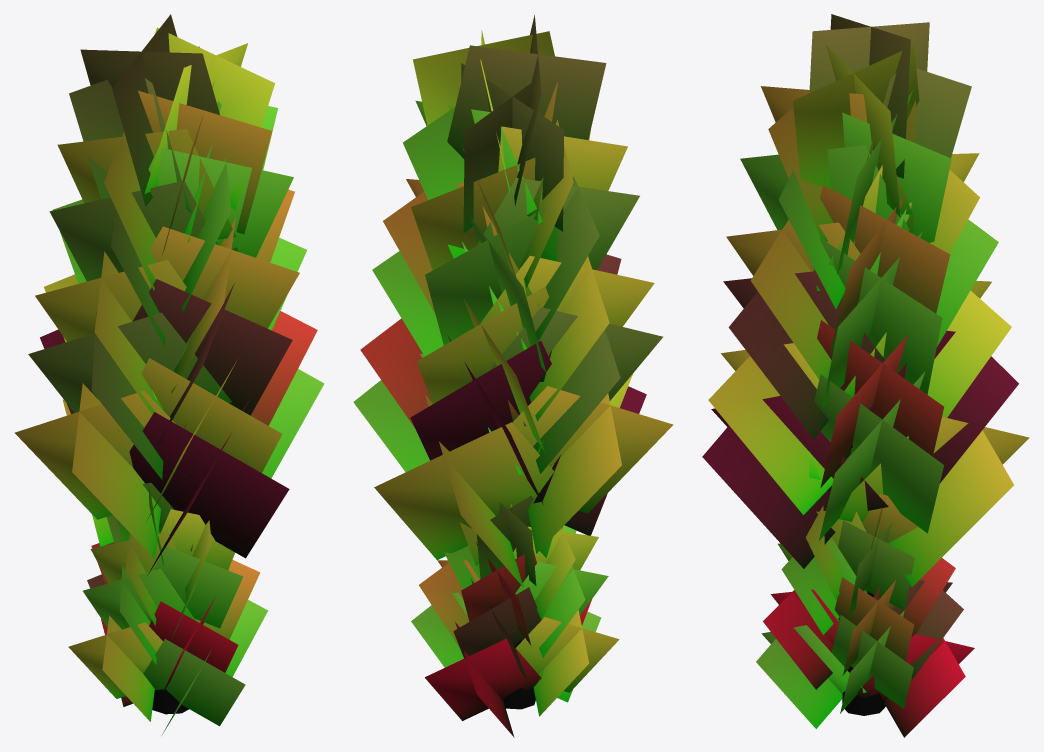
File: Tree_9.fbx
The picture shows the model from 3 angles, left to right: view 1: azimuth 30°, elevation 25°; view 2: azimuth 150°, elevation 25°; view 3: azimuth 270°, elevation 25°; orthographic projection.
Visible parts, largest first — view 1: Tree_9; view 2: Tree_9; view 3: Tree_9.
Part boxes in pixels (box(x1,y1,x2,y2)): Tree_9: box(14, 14, 324, 734); Tree_9: box(353, 15, 673, 737); Tree_9: box(702, 14, 1029, 737).
Size of the model in its own units: 676 by 1628 by 698.
